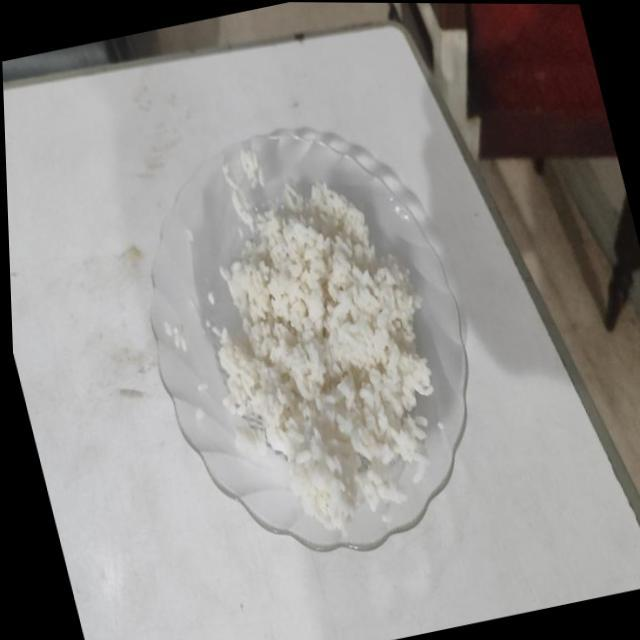nasi_putih: (218, 183, 432, 528)
